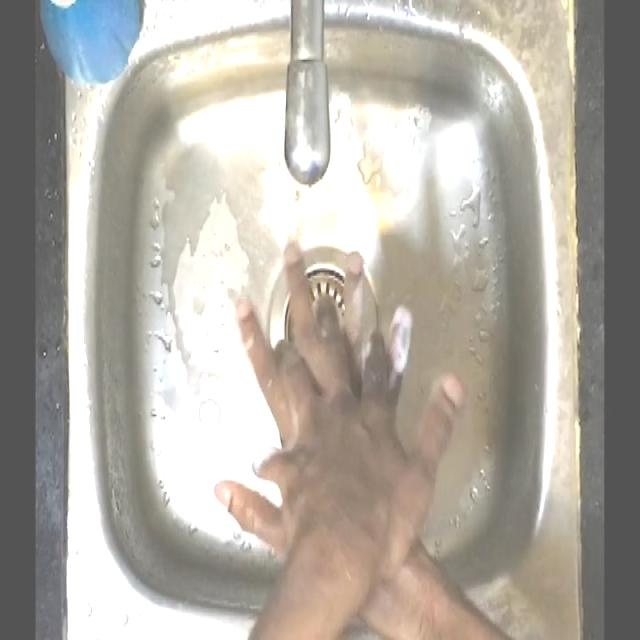step_2: (210, 230, 469, 580)
